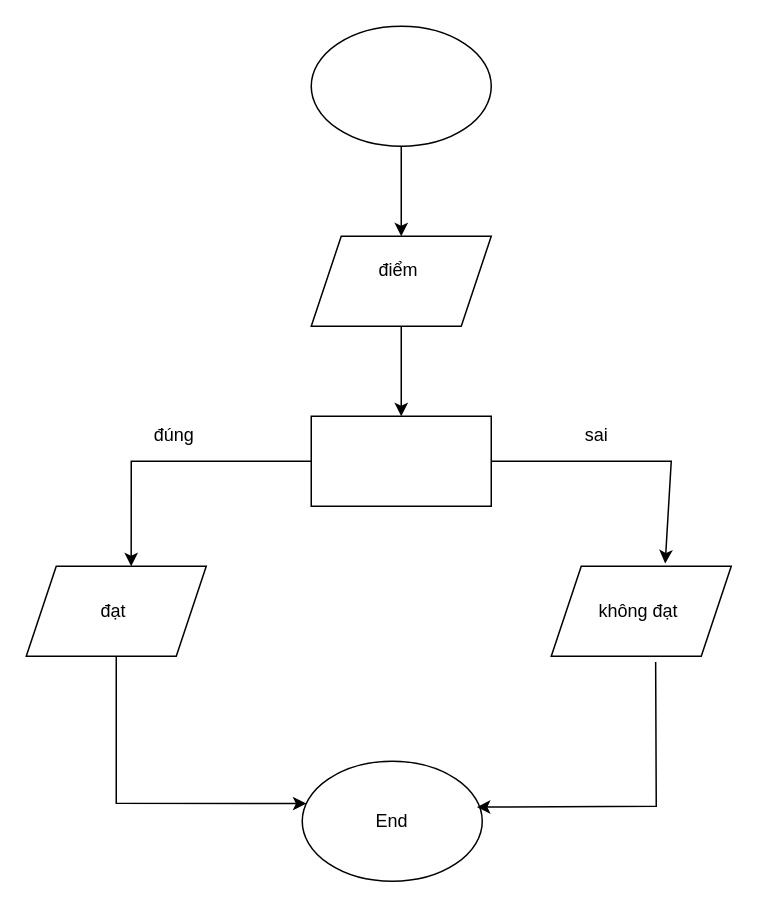
Some shapes in this 758 by 908 pixel diagram are drawn without their labels. Each missing label, with the centre of its shape:
"Start" belongs at point (400, 85).
"điểm >5" belongs at point (400, 460).
